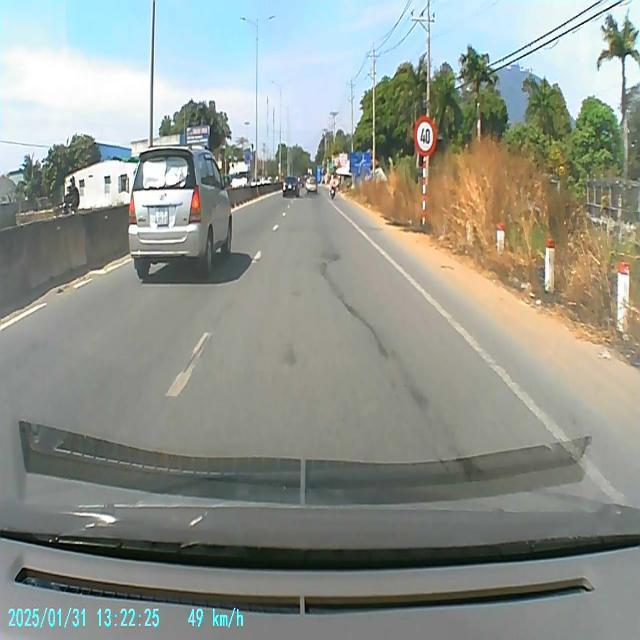127-toc-do-toi-da-40: (414, 116, 436, 156)
